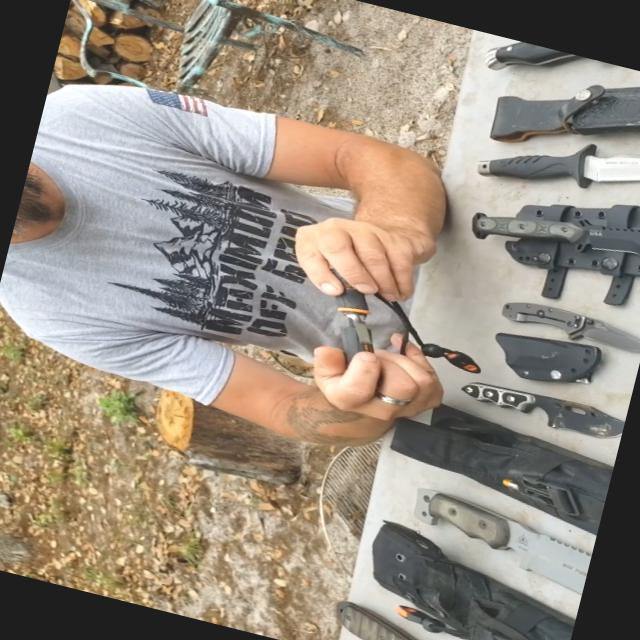knife: (384, 469, 598, 604), (455, 83, 639, 226), (441, 173, 639, 289), (470, 268, 639, 370), (452, 360, 628, 450)
